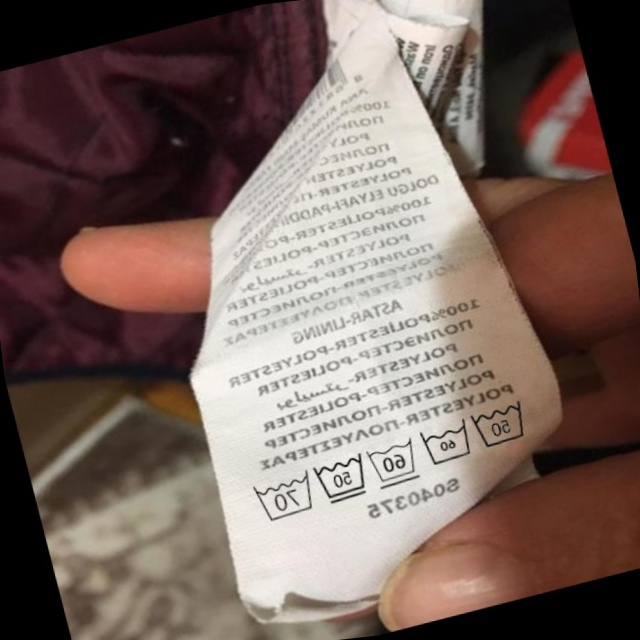50C: (463, 391, 538, 456), (307, 448, 375, 511)
60C: (360, 432, 425, 493), (413, 414, 478, 473)
70C: (244, 467, 320, 528)
